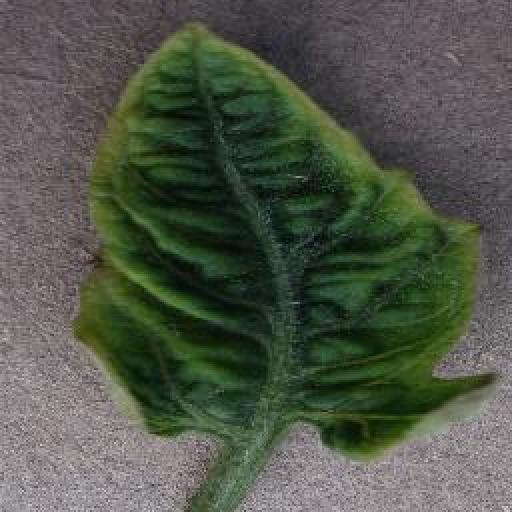disease_tomato: (75, 20, 500, 464)
